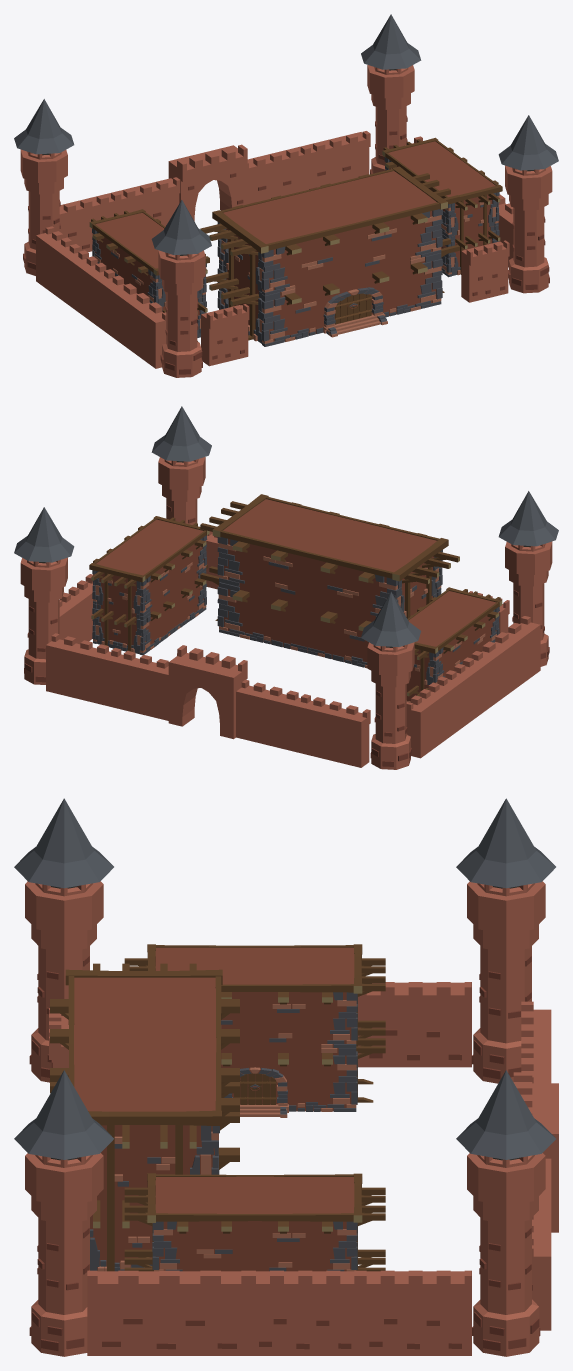
Rendered from london_palace.glb.
3 views of the same model, one above another, from view 1: azimuth 30°, elevation 25°; view 2: azimuth 150°, elevation 25°; view 3: azimuth 270°, elevation 25° (orthographic). The views are drawn at different scales.
Parts seen in each view (by area): view 1: Great hall exterior, Roofed corner tower (×4), Palace residential wing (×2), Front brick enclosure (×4), Side brick enclosure (×4), Rear brick enclosure (×2), Ceremonial gate arch; view 2: Great hall exterior, Roofed corner tower (×4), Palace residential wing (×2), Front brick enclosure (×4), Side brick enclosure (×5), Ceremonial gate arch, Rear brick enclosure; view 3: Roofed corner tower (×4), Palace residential wing (×2), Side brick enclosure (×4), Great hall exterior, Front brick enclosure (×2), Ceremonial gate arch, Rear brick enclosure.
Boxes of the visible parts, bbox=[...] form: Great hall exterior: bbox=[200, 166, 459, 346]; Roofed corner tower (×4): bbox=[14, 14, 558, 377]; Palace residential wing (×2): bbox=[89, 137, 502, 341]; Front brick enclosure (×4): bbox=[59, 131, 370, 252]; Side brick enclosure (×4): bbox=[36, 194, 513, 368]; Rear brick enclosure (×2): bbox=[201, 240, 509, 366]; Ceremonial gate arch: bbox=[168, 144, 247, 221]; Great hall exterior: bbox=[200, 494, 459, 668]; Roofed corner tower (×4): bbox=[14, 406, 558, 769]; Palace residential wing (×2): bbox=[89, 516, 502, 702]; Front brick enclosure (×4): bbox=[46, 633, 370, 767]; Side brick enclosure (×5): bbox=[59, 574, 540, 758]; Ceremonial gate arch: bbox=[168, 645, 247, 739]; Rear brick enclosure: bbox=[206, 531, 218, 589]; Roofed corner tower (×4): bbox=[14, 798, 555, 1356]; Palace residential wing (×2): bbox=[124, 944, 385, 1271]; Side brick enclosure (×4): bbox=[87, 982, 471, 1355]; Great hall exterior: bbox=[50, 963, 239, 1271]; Front brick enclosure (×2): bbox=[521, 1001, 551, 1330]; Ceremonial gate arch: bbox=[513, 1072, 558, 1232]; Rear brick enclosure: bbox=[49, 1008, 68, 1067].
Size of the model in its own units: 74 by 30 by 54.25.
